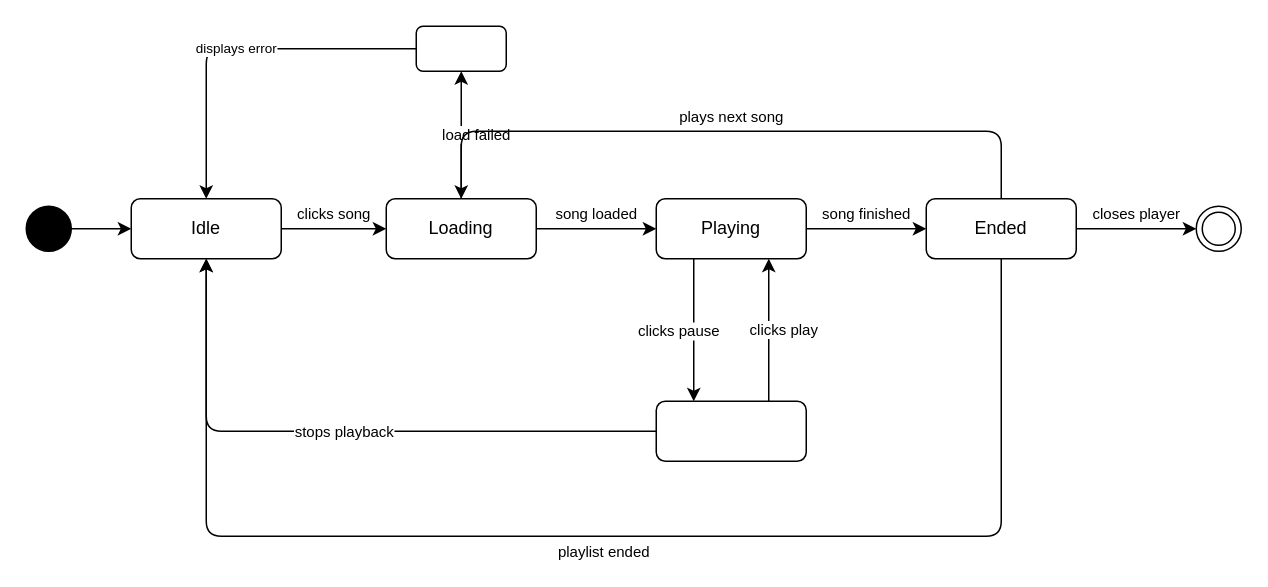
This 1268x587 diagram has some shape labels left out. Here are the shapes that lost their labels. From the top down, the centre of each, then its label:
(460,48): Error
(730,430): Paused
